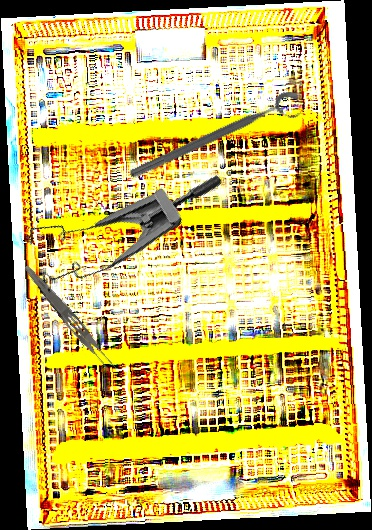Dressing Forceps: (18, 262, 121, 377)
Fixation Ring: (126, 87, 308, 193)
Speculum: (8, 110, 226, 322)
